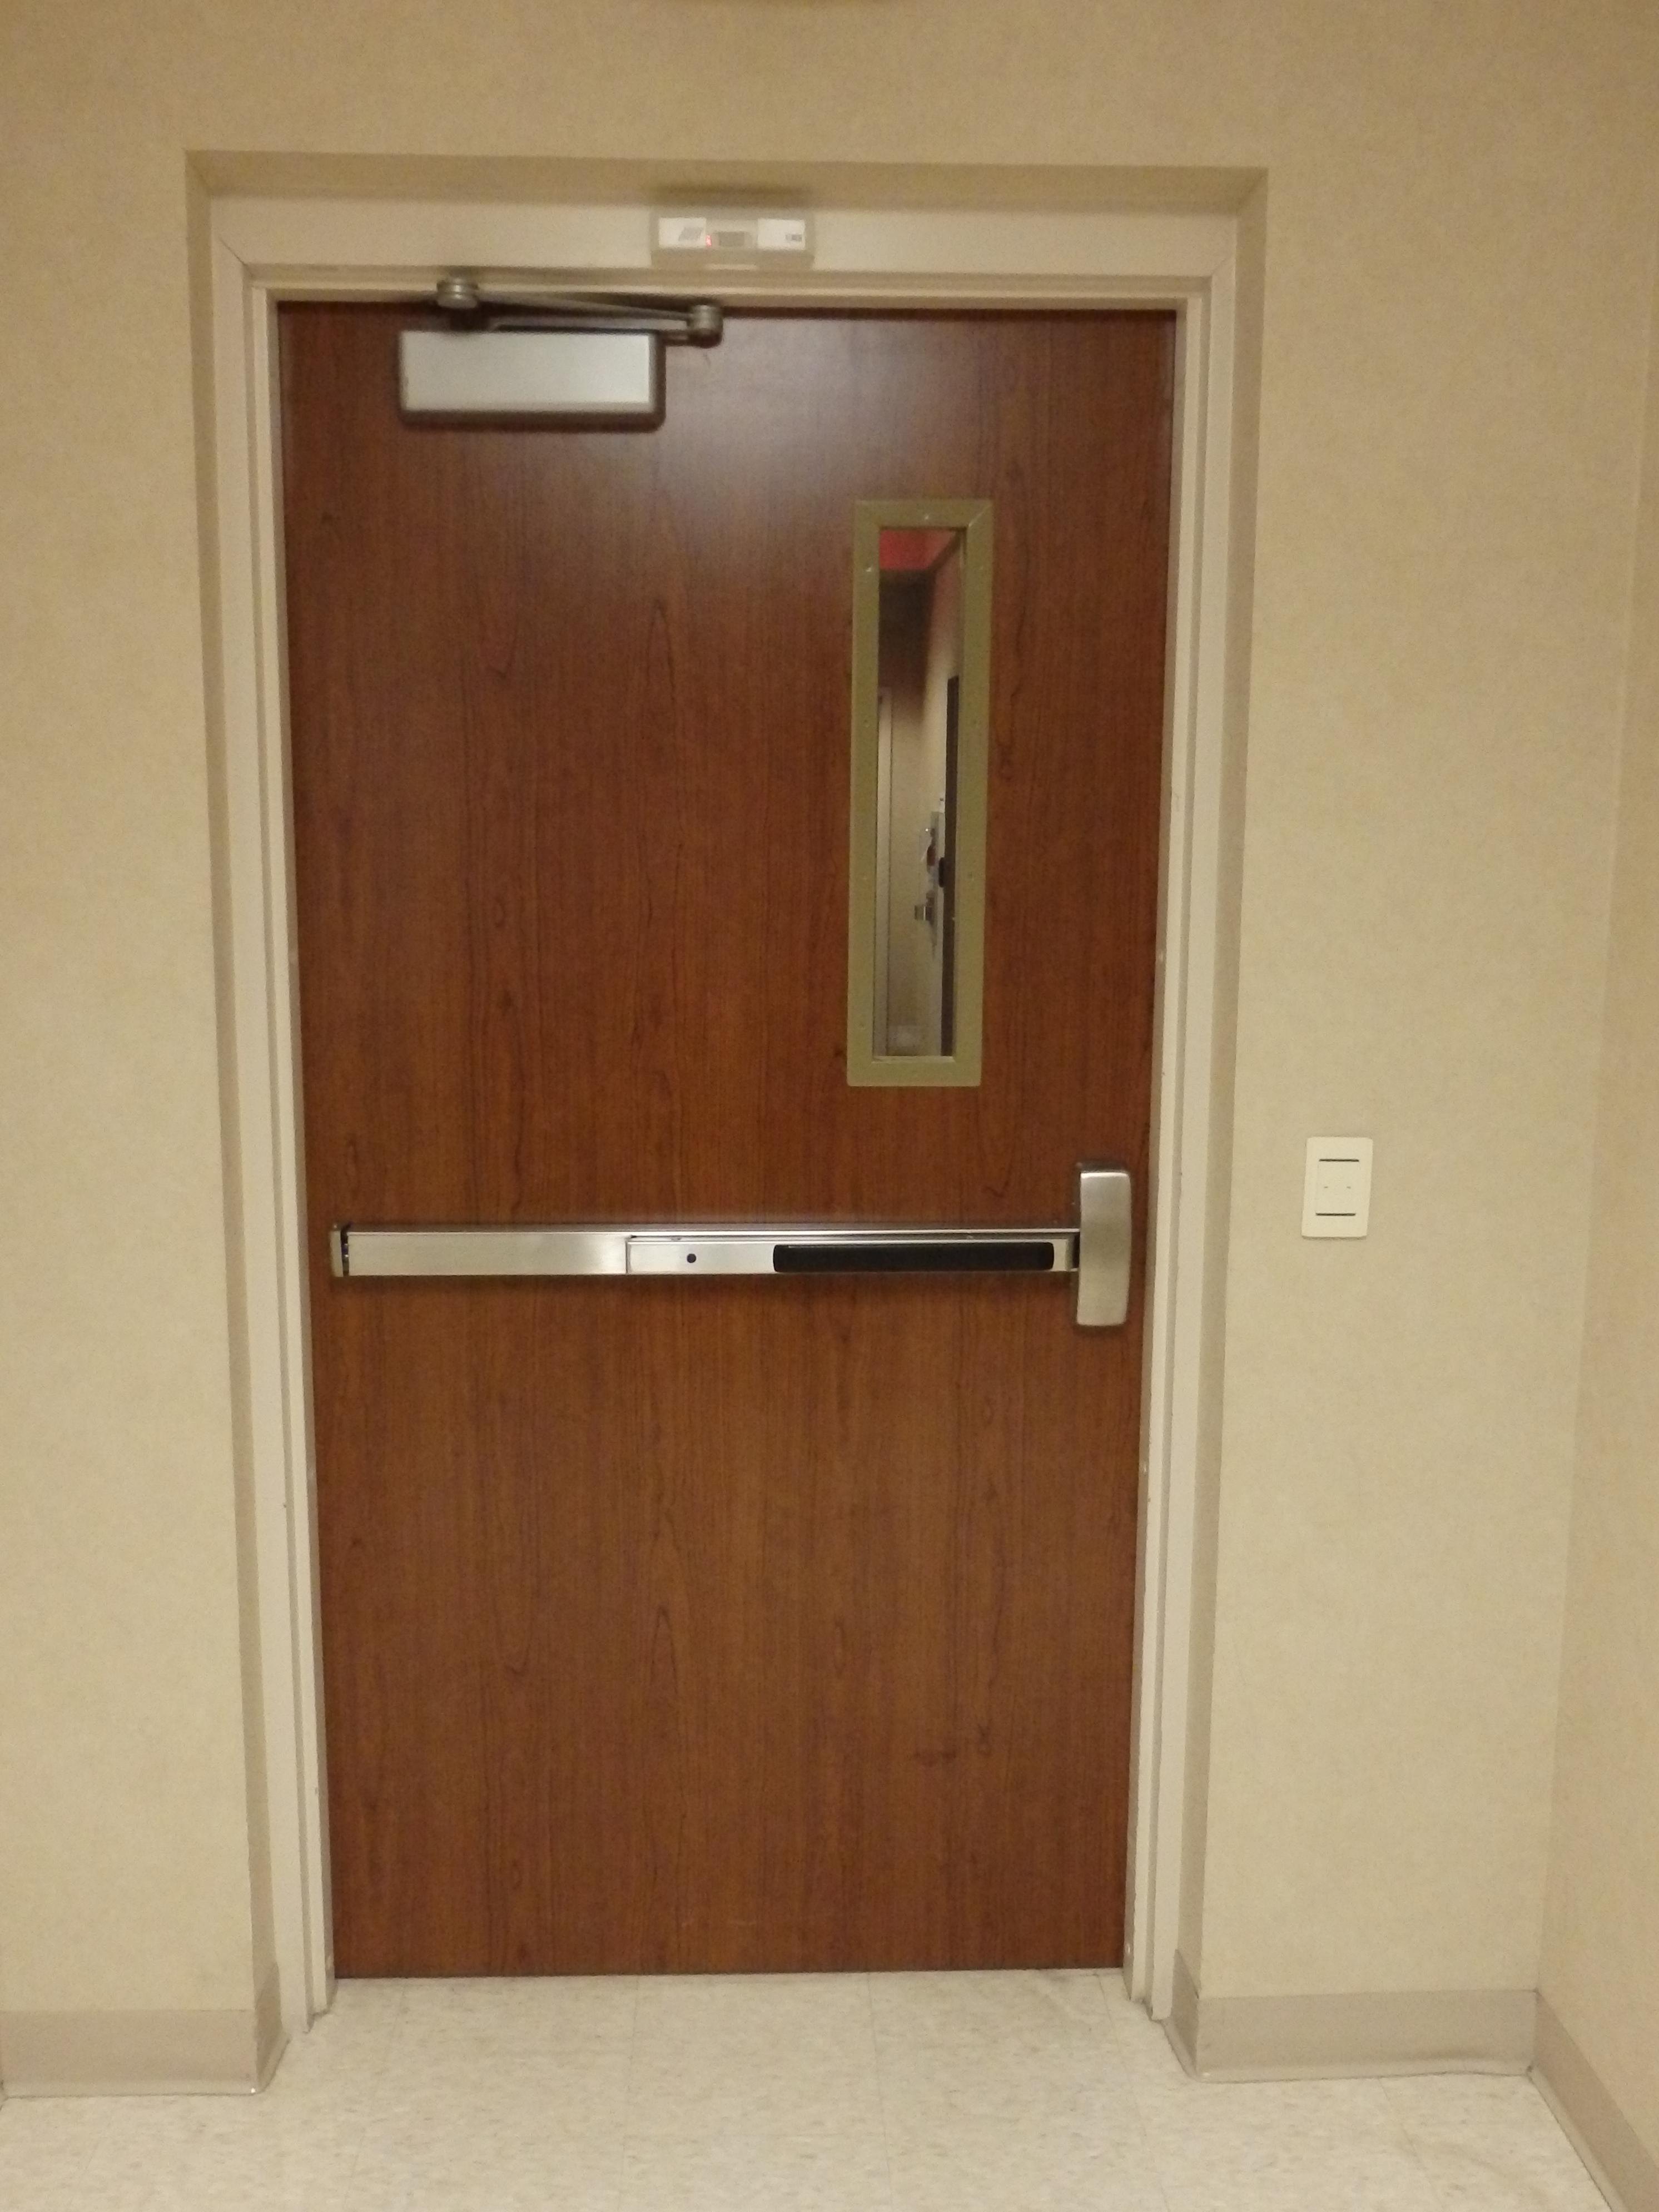door: (213, 195, 1234, 2029)
